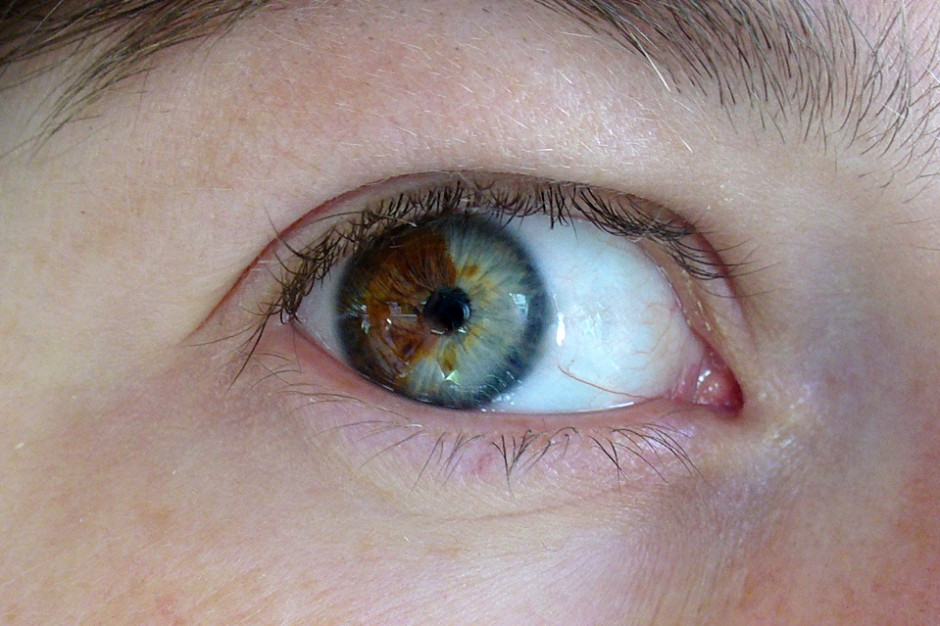iris: (337, 210, 547, 408)
pupil: (424, 287, 470, 332)
